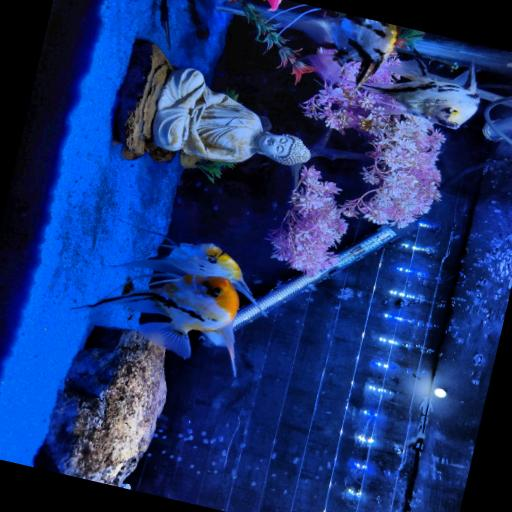Fish: (88, 273, 238, 373), (120, 232, 266, 315), (360, 58, 479, 128), (360, 58, 479, 127), (290, 14, 396, 87)
